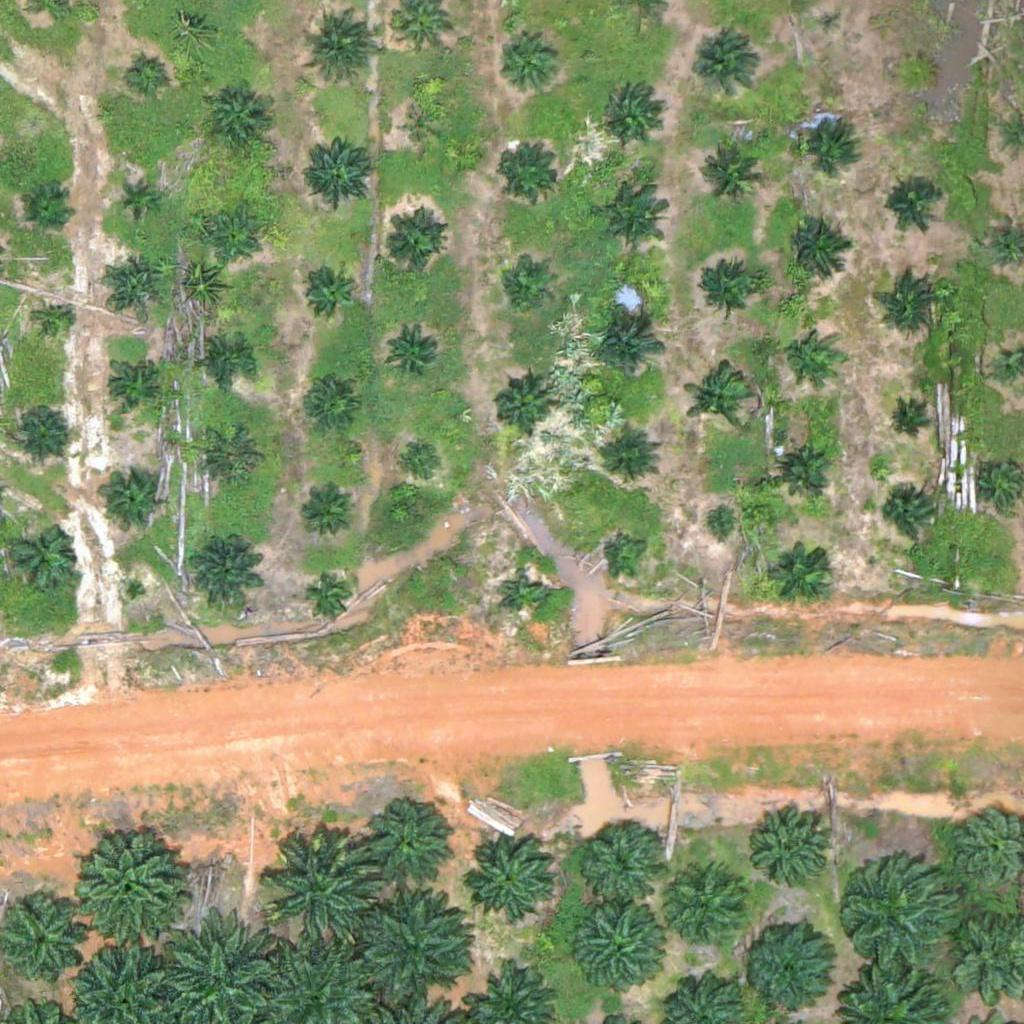Kelapa_Sawit: (262, 825, 387, 951), (838, 851, 963, 977), (348, 883, 473, 1008), (68, 828, 181, 942), (572, 908, 660, 996), (743, 924, 830, 1013), (575, 816, 662, 904), (366, 806, 453, 894), (464, 832, 551, 920), (665, 862, 752, 950), (751, 805, 838, 893), (691, 261, 766, 337), (594, 180, 669, 256), (687, 33, 762, 109), (695, 135, 770, 211), (187, 533, 262, 609), (1, 520, 76, 596), (683, 363, 758, 439), (299, 14, 374, 89), (301, 128, 376, 203), (592, 312, 667, 387), (100, 250, 163, 313), (796, 110, 859, 173), (381, 212, 444, 275), (386, 319, 449, 382), (101, 469, 164, 532), (773, 540, 836, 603), (600, 430, 663, 493), (772, 435, 835, 498), (492, 378, 555, 441), (204, 88, 266, 151), (882, 272, 944, 335), (881, 172, 943, 235), (499, 142, 561, 205), (785, 218, 848, 280), (602, 84, 664, 147), (501, 37, 563, 100), (200, 428, 262, 491), (8, 398, 70, 460), (206, 215, 256, 266), (301, 266, 351, 317), (305, 379, 355, 430), (605, 528, 655, 579), (499, 570, 549, 621), (398, 437, 448, 488), (201, 337, 251, 387), (781, 327, 831, 377), (500, 260, 550, 310), (300, 490, 350, 540), (105, 360, 155, 410), (882, 490, 932, 540), (306, 571, 356, 621), (21, 185, 71, 235), (700, 506, 738, 544), (37, 306, 75, 344), (898, 54, 936, 92), (886, 403, 923, 441), (405, 108, 442, 146), (116, 181, 153, 219), (130, 57, 168, 94), (818, 8, 843, 33)
